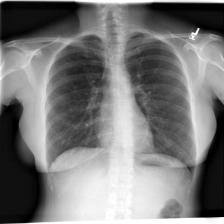normal: (39, 25, 199, 180)
